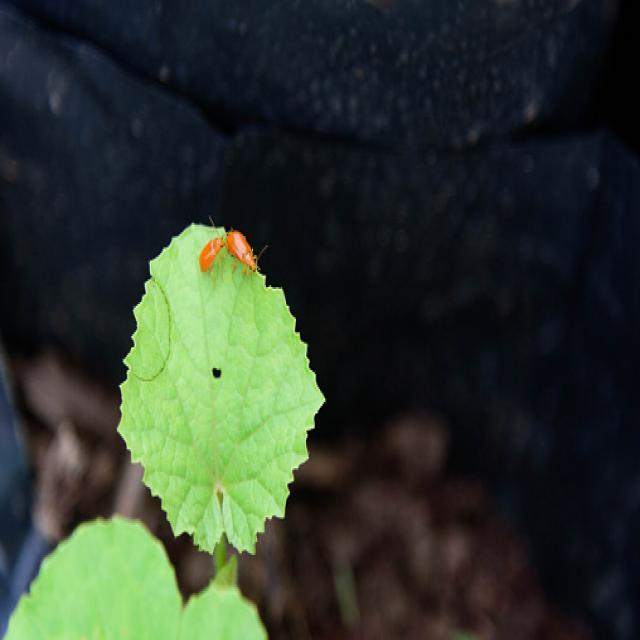Pumpkin Beetle: (127, 263, 181, 392), (199, 212, 270, 292)
